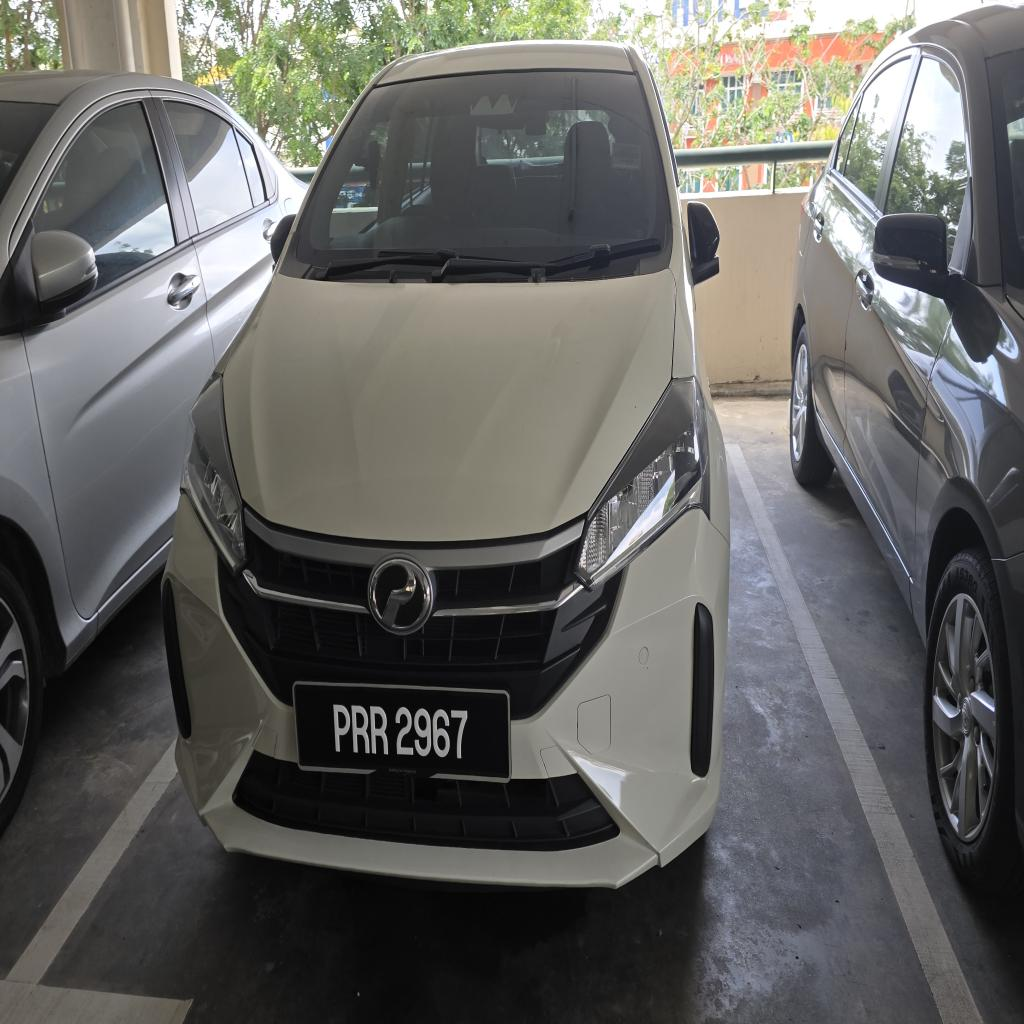car: (164, 43, 728, 885)
car plate: (294, 683, 510, 780)
